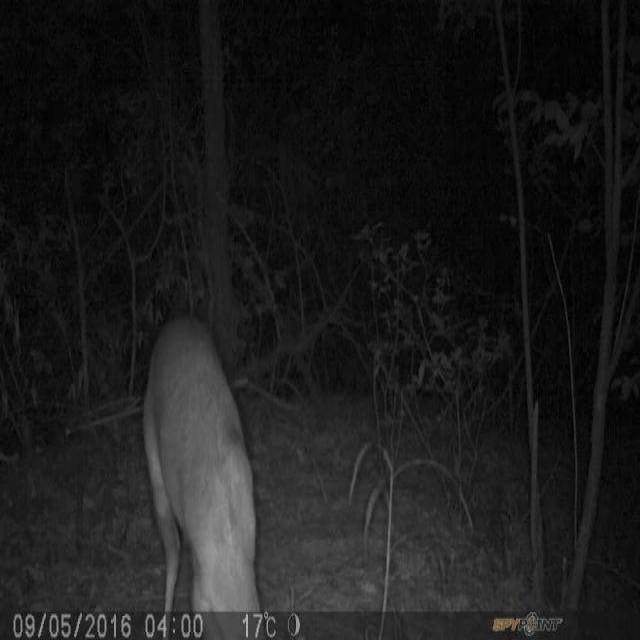deer: (144, 317, 268, 611)
